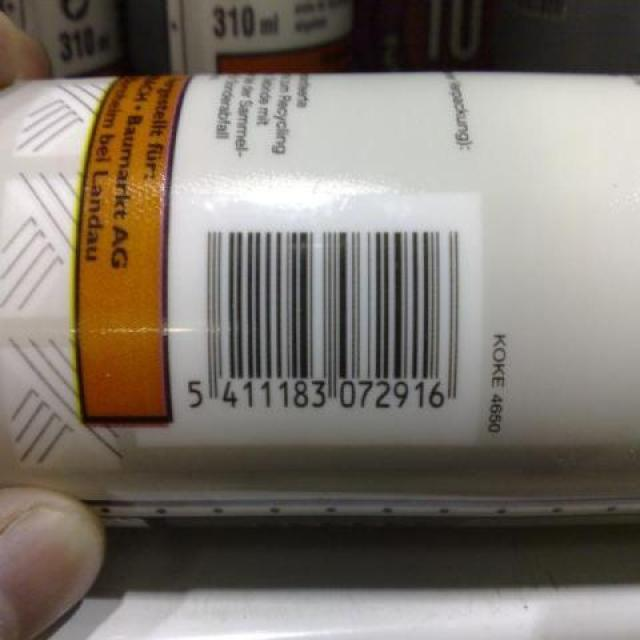Barcode: (177, 212, 471, 431)
